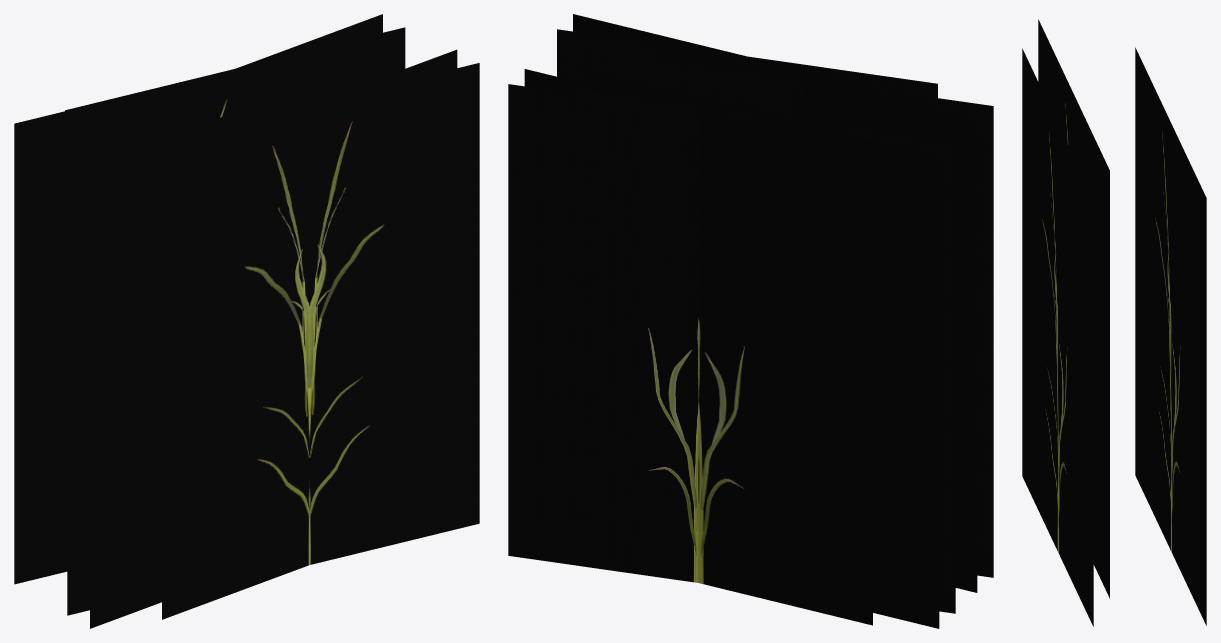
Rendered from card_paddy.fbx.
The picture shows the model from 3 angles, left to right: view 1: azimuth 30°, elevation 25°; view 2: azimuth 150°, elevation 25°; view 3: azimuth 270°, elevation 25°; orthographic projection. The views are drawn at different scales.
Visible parts, largest first — view 1: Paddy_Full_strand__5_1; view 2: Paddy_Full_strand__5_1; view 3: Paddy_Full_strand__5_1.
Part boxes in pixels (x1,y1,x2,y2): Paddy_Full_strand__5_1: (14,14,479,628); Paddy_Full_strand__5_1: (508,14,993,628); Paddy_Full_strand__5_1: (1022,19,1206,626).
Bounding box in the file's own units: 150 × 162 × 62.55.
